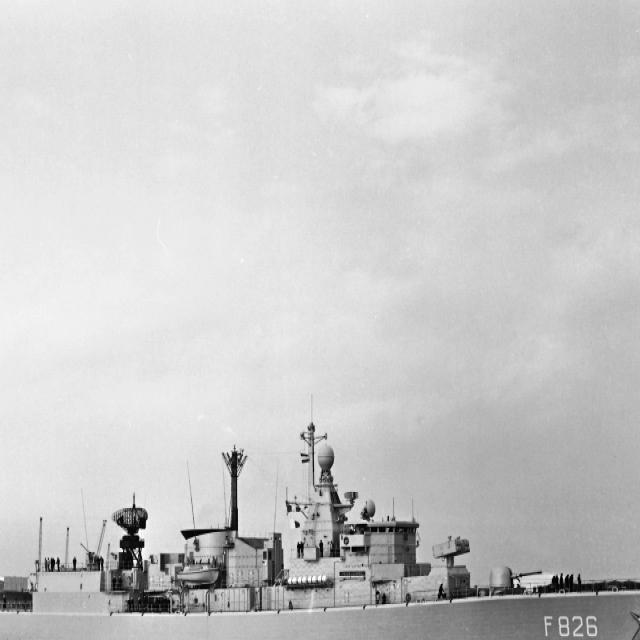Fragata: (1, 394, 640, 640)
